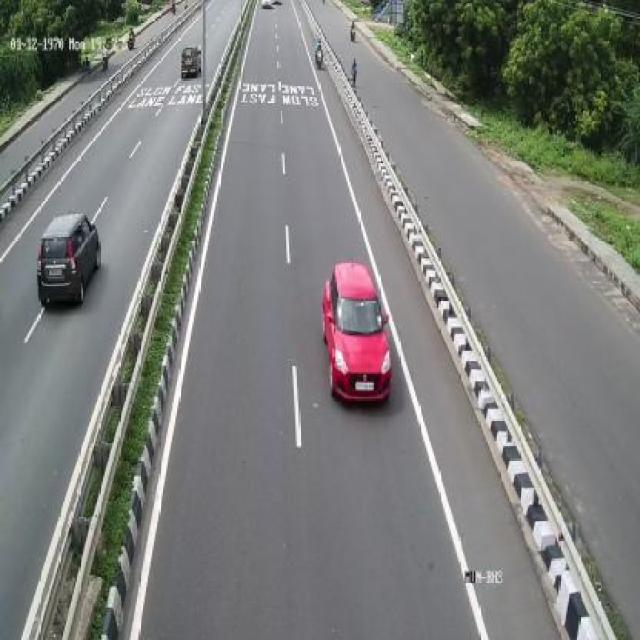car: (323, 254, 394, 409), (39, 208, 103, 309)
